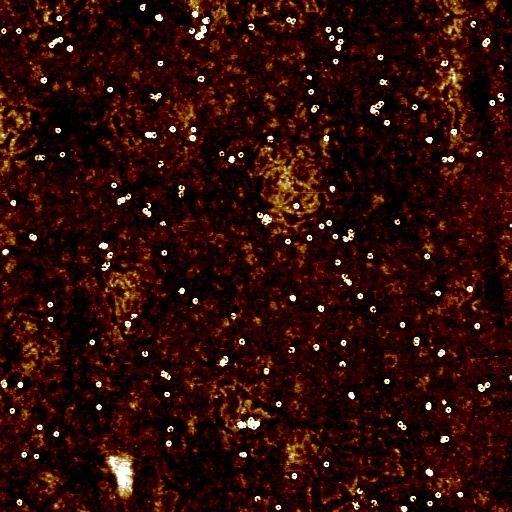-1: (104, 455, 138, 494), (247, 416, 263, 432), (339, 271, 355, 287), (369, 101, 384, 117), (342, 229, 356, 246), (195, 25, 210, 40), (480, 37, 493, 49), (346, 387, 358, 400), (287, 292, 299, 304), (262, 214, 274, 226), (219, 353, 229, 367), (201, 14, 212, 26), (96, 241, 109, 251), (423, 134, 434, 145), (155, 12, 166, 23), (265, 134, 276, 145), (27, 233, 39, 243), (189, 9, 200, 19), (436, 349, 448, 358), (2, 246, 10, 258), (228, 154, 236, 165), (17, 379, 25, 390), (262, 367, 271, 376), (306, 72, 314, 82), (158, 220, 168, 228), (237, 419, 245, 429), (117, 197, 125, 206), (145, 129, 151, 140), (130, 312, 139, 319), (178, 287, 185, 295), (240, 450, 247, 458), (439, 399, 447, 406), (52, 37, 58, 46), (508, 373, 511, 383)
1/4: (144, 200, 153, 209), (310, 102, 321, 109), (228, 313, 237, 320), (33, 153, 39, 163), (474, 382, 483, 387), (350, 501, 358, 505)
2/4: (97, 265, 112, 275), (336, 359, 349, 370), (366, 304, 379, 315), (496, 62, 507, 72), (369, 498, 379, 508), (408, 494, 418, 503), (157, 158, 165, 169), (188, 25, 196, 35), (356, 486, 364, 496), (287, 345, 295, 355), (103, 259, 114, 266), (253, 495, 262, 503), (385, 77, 391, 87), (149, 91, 155, 100), (353, 505, 361, 510)
3/4: (309, 341, 323, 353), (246, 22, 257, 34), (332, 257, 342, 268), (364, 251, 375, 261), (469, 19, 479, 29), (439, 58, 449, 68), (411, 102, 421, 112), (393, 217, 403, 227), (377, 76, 386, 87), (0, 378, 8, 390), (253, 210, 263, 219), (152, 130, 159, 142), (106, 250, 115, 259), (176, 183, 186, 191), (166, 425, 176, 433), (141, 349, 149, 358), (292, 17, 300, 25), (159, 368, 165, 378), (440, 155, 447, 163), (126, 191, 131, 201), (497, 91, 504, 98), (499, 96, 506, 103), (40, 154, 47, 161)
4/4: (438, 433, 452, 447), (464, 283, 476, 294), (421, 251, 433, 262), (195, 73, 208, 83), (380, 377, 394, 386), (167, 124, 178, 134), (217, 148, 227, 159), (454, 490, 465, 500), (155, 58, 167, 67), (475, 149, 485, 159), (109, 180, 119, 190), (53, 125, 63, 135), (355, 291, 365, 301), (138, 2, 147, 13), (399, 319, 408, 330), (339, 338, 347, 350), (487, 98, 497, 107), (449, 127, 459, 136), (324, 24, 333, 34), (283, 15, 293, 24), (123, 319, 132, 329), (316, 304, 325, 314), (305, 233, 314, 243), (448, 154, 456, 165), (328, 184, 336, 195), (435, 288, 442, 300), (65, 44, 74, 53), (45, 300, 54, 309), (188, 134, 197, 143), (94, 380, 103, 389), (274, 400, 283, 409), (19, 450, 28, 459), (290, 472, 299, 481), (425, 499, 434, 508), (291, 202, 300, 211), (331, 232, 340, 241), (331, 57, 341, 65), (9, 198, 17, 208), (52, 430, 62, 438), (435, 490, 443, 500), (444, 406, 452, 416), (383, 118, 391, 127), (336, 25, 345, 33), (323, 133, 331, 142), (106, 85, 115, 93), (190, 125, 198, 134), (39, 76, 48, 84), (95, 403, 103, 412), (35, 423, 44, 431), (274, 504, 283, 512), (400, 424, 409, 432), (412, 334, 421, 342), (326, 218, 334, 227), (309, 108, 318, 116), (0, 26, 8, 35), (59, 150, 66, 160), (474, 322, 481, 332), (410, 342, 421, 348), (337, 37, 345, 45), (160, 249, 168, 257), (238, 338, 246, 346), (317, 223, 325, 231), (238, 150, 245, 159), (54, 15, 63, 22), (9, 406, 16, 415), (477, 387, 486, 394), (308, 88, 316, 95), (15, 27, 22, 35), (47, 316, 54, 324), (165, 440, 172, 448), (33, 453, 40, 461), (401, 505, 409, 512), (485, 381, 492, 389), (284, 238, 292, 245), (376, 54, 385, 60), (16, 498, 22, 507), (330, 34, 337, 41), (47, 42, 54, 49), (323, 461, 330, 468), (89, 338, 95, 346), (192, 297, 198, 305), (396, 419, 402, 427), (336, 44, 342, 51), (157, 91, 164, 97), (58, 36, 64, 43), (164, 391, 170, 398)
